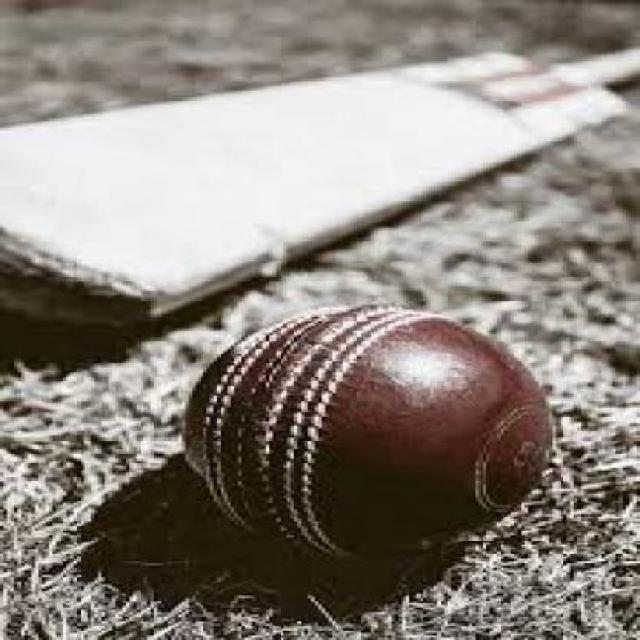ball: (172, 283, 597, 588)
